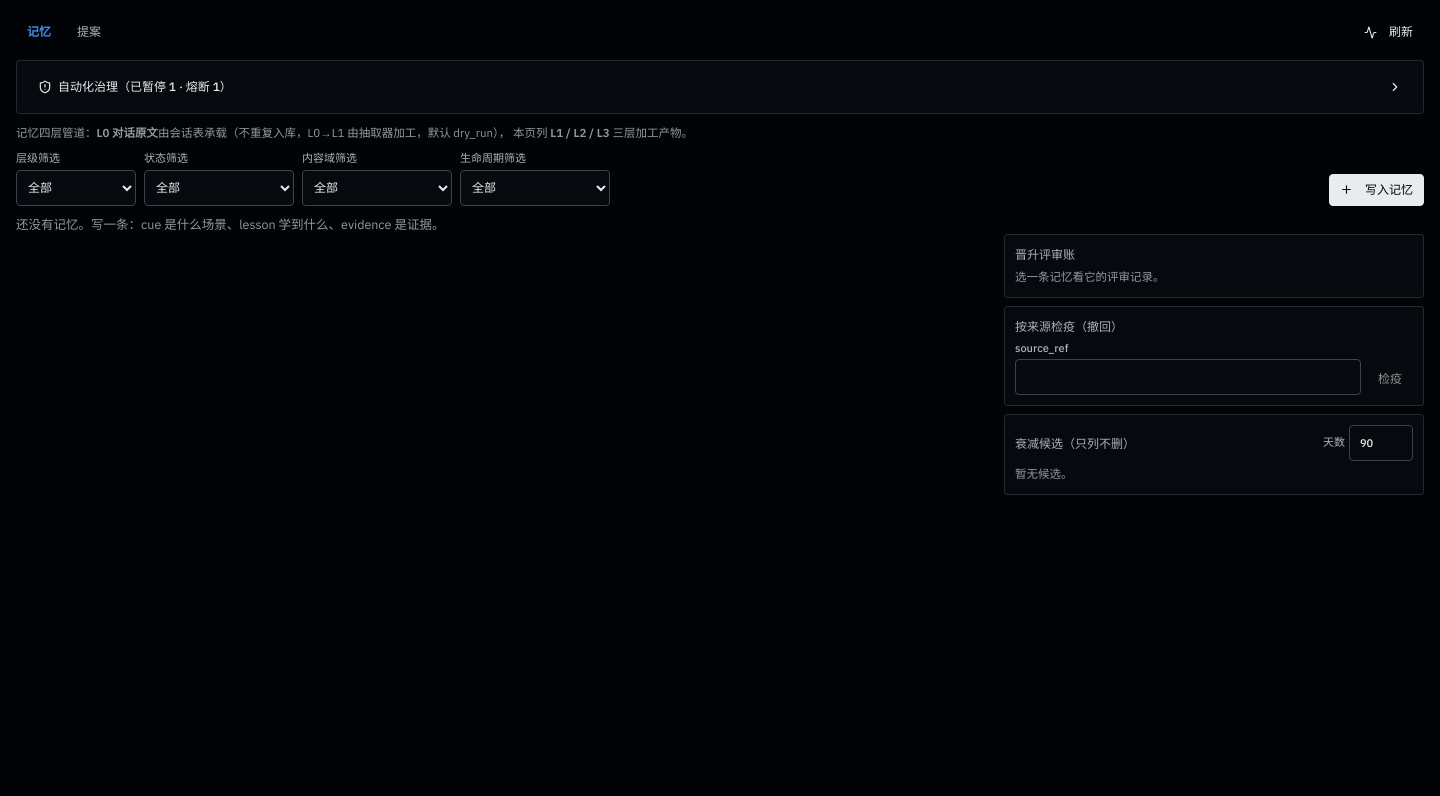
Test: 记忆 tab › 三字段缺一 → no_entry 且明确说明"合法结论"
This screenshot has width=1440, height=796.
Expected: the text "还没有记忆。写一条：cue 是什么场景、lesson 学到什么、evidence 是证据。" is shown, [16, 216, 444, 232]
Click the button "写入记忆".
click(1376, 190)  # box [1329, 174, 1424, 206]
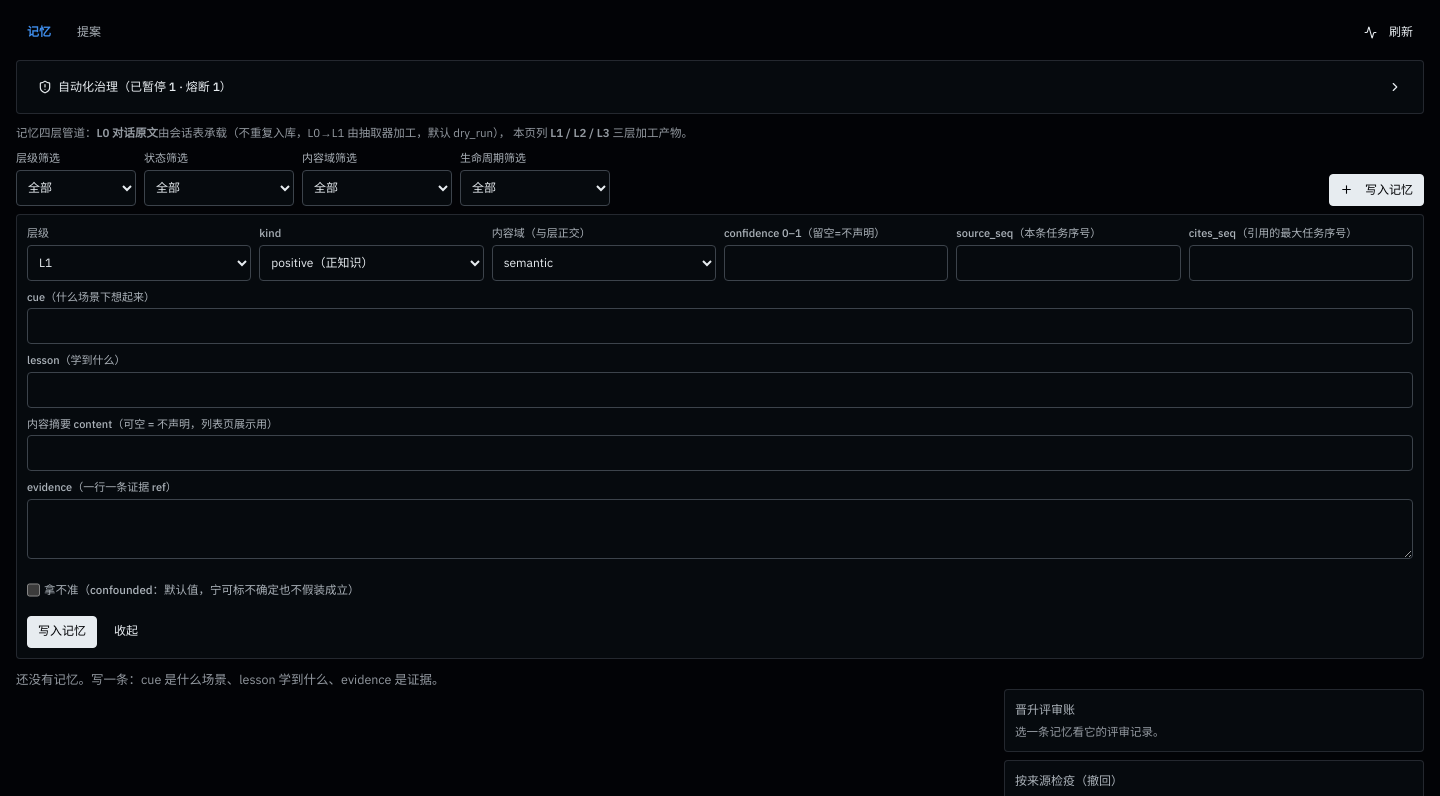
Click the button "写入记忆" below "拿不准（confounded：默认值，宁可标不确定也不假装成立）".
click(62, 632)  # box [27, 616, 97, 648]
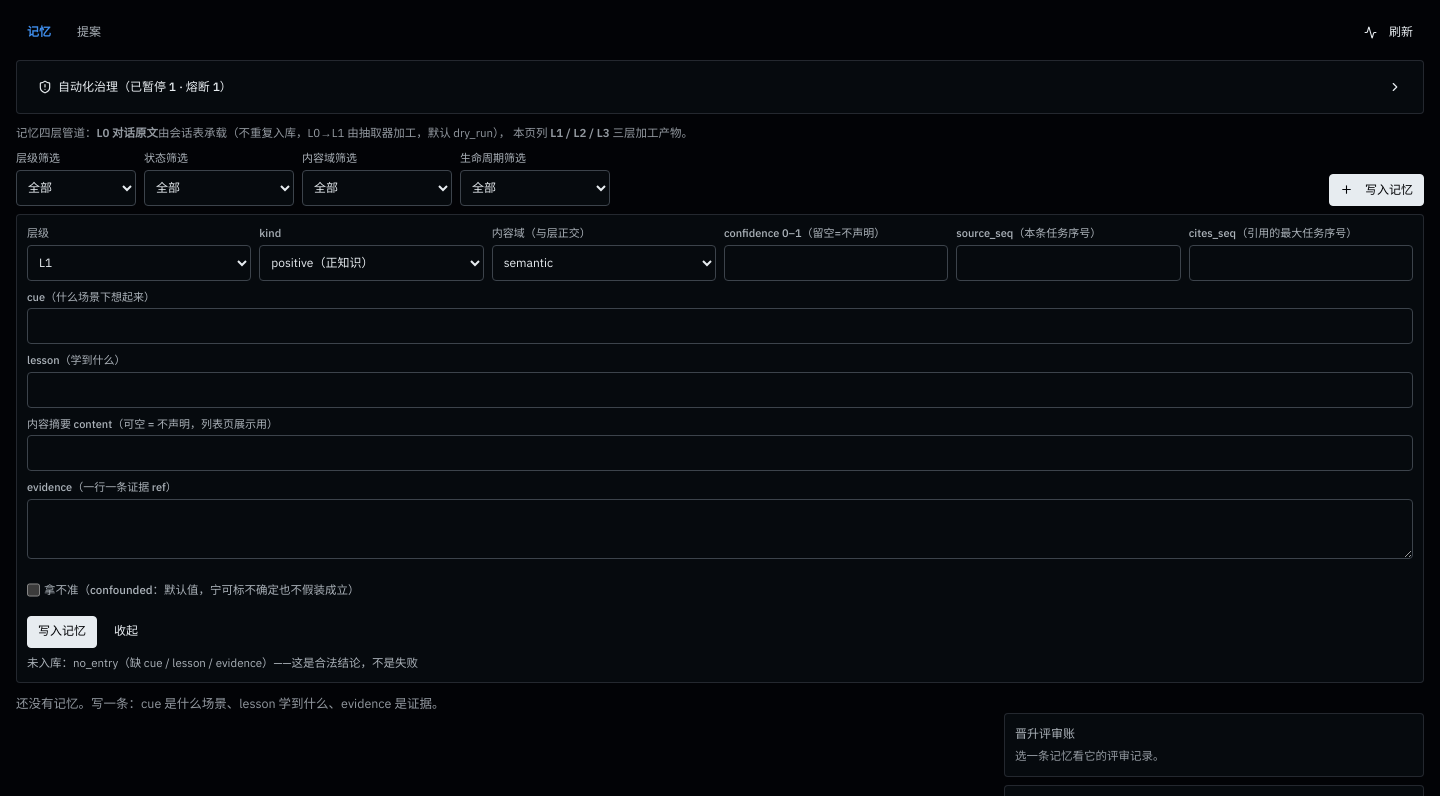
Now the message shows "no_entry", box [27, 655, 418, 670]
Now the message shows "合法结论", box [27, 655, 418, 670]
